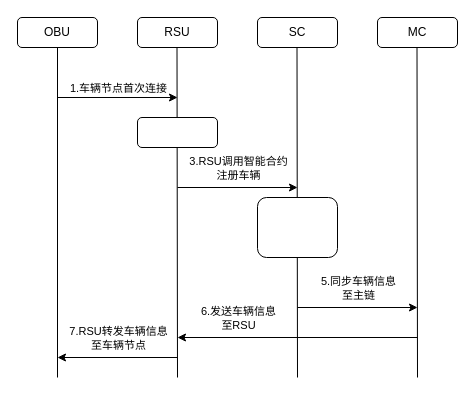
Image size: 475x396. Some labels were removed from this diagram. The shapes that lost their labels are listed below. From the top down, each one's centre as x and y in pixels, then its label:
point 177,132: 2.验证车辆节点有效性
point 297,227: 4.生成车辆身份的数字签名秘钥对，公钥pk和私钥sk
